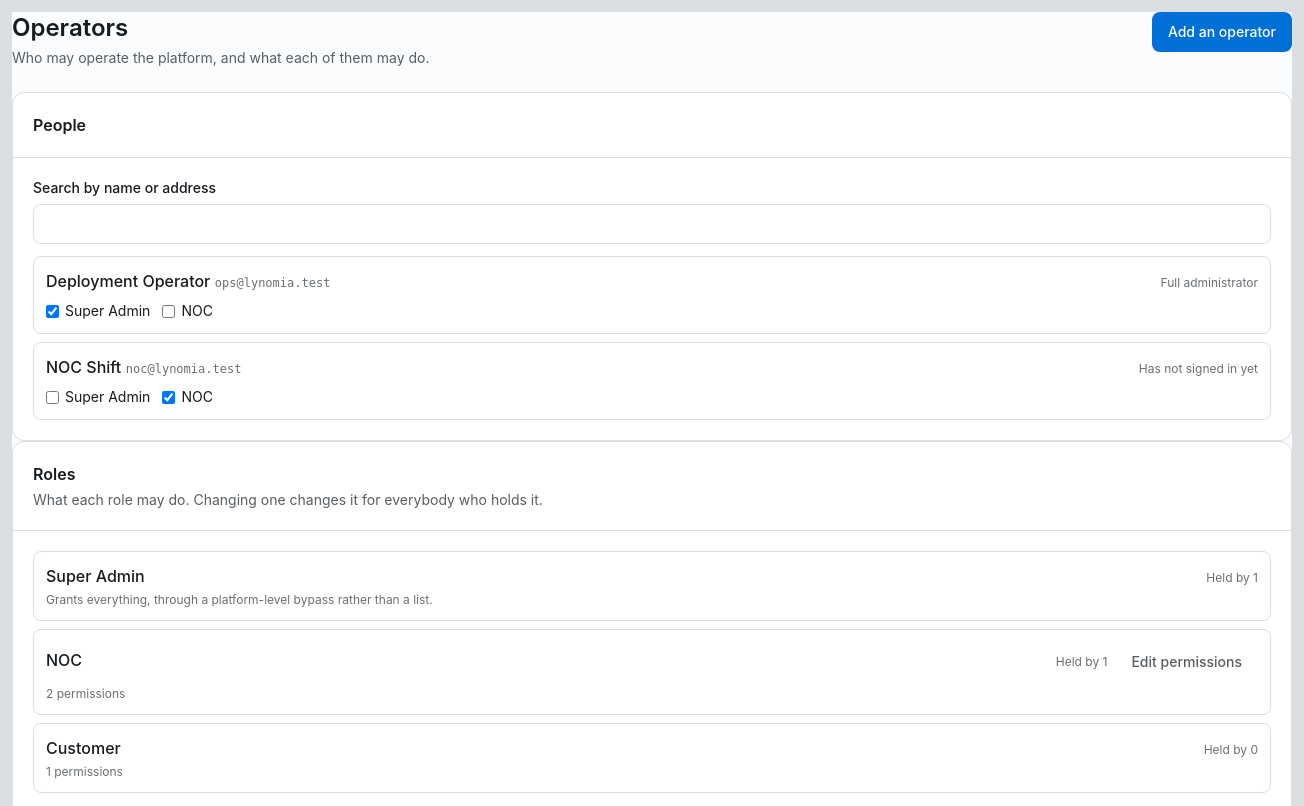
OperatorsPage › shows the platform’s refusal in words rather than swallowing it
Step 1. Click the checkbox labelled "NOC" below "Deployment Operator" → (169, 311), box x1=162 y1=304 x2=175 y2=318
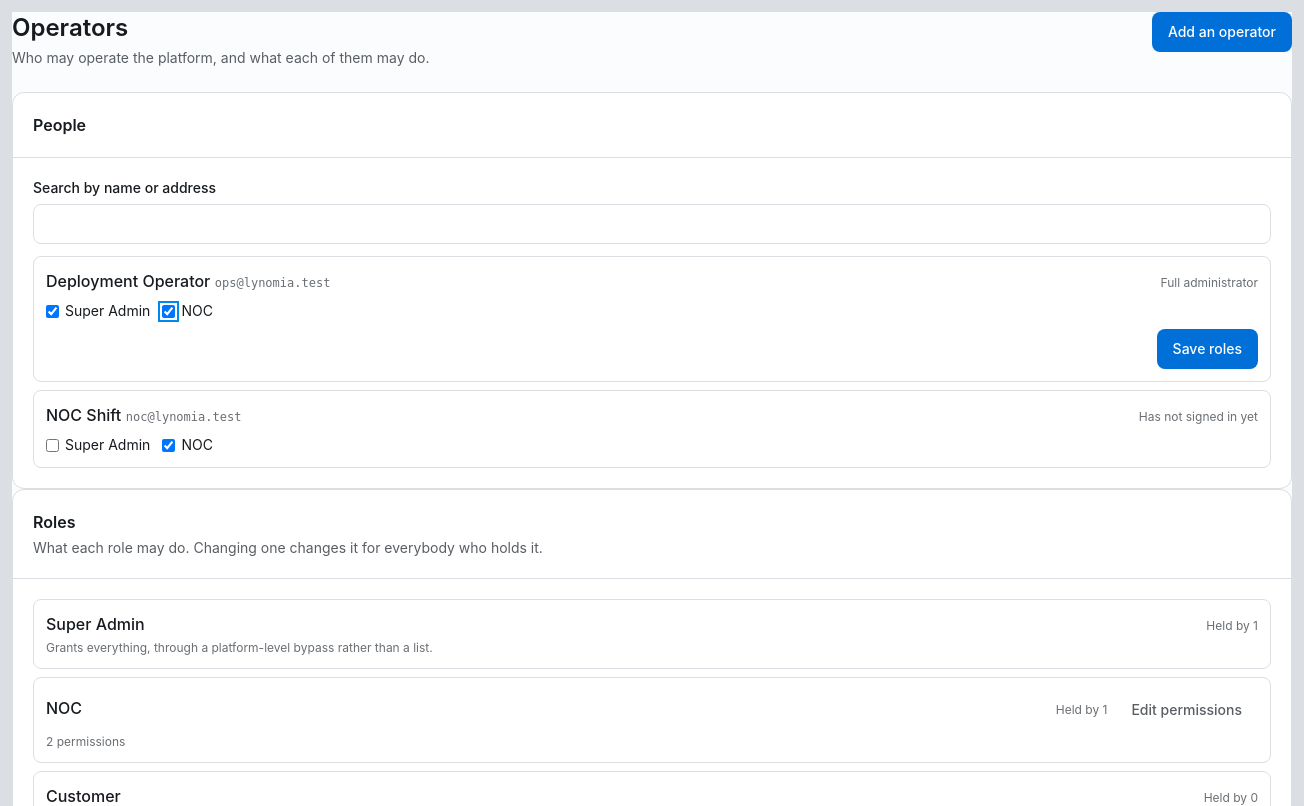
Step 2. Click the button "Save roles" → (1207, 349), box x1=1157 y1=329 x2=1258 y2=369
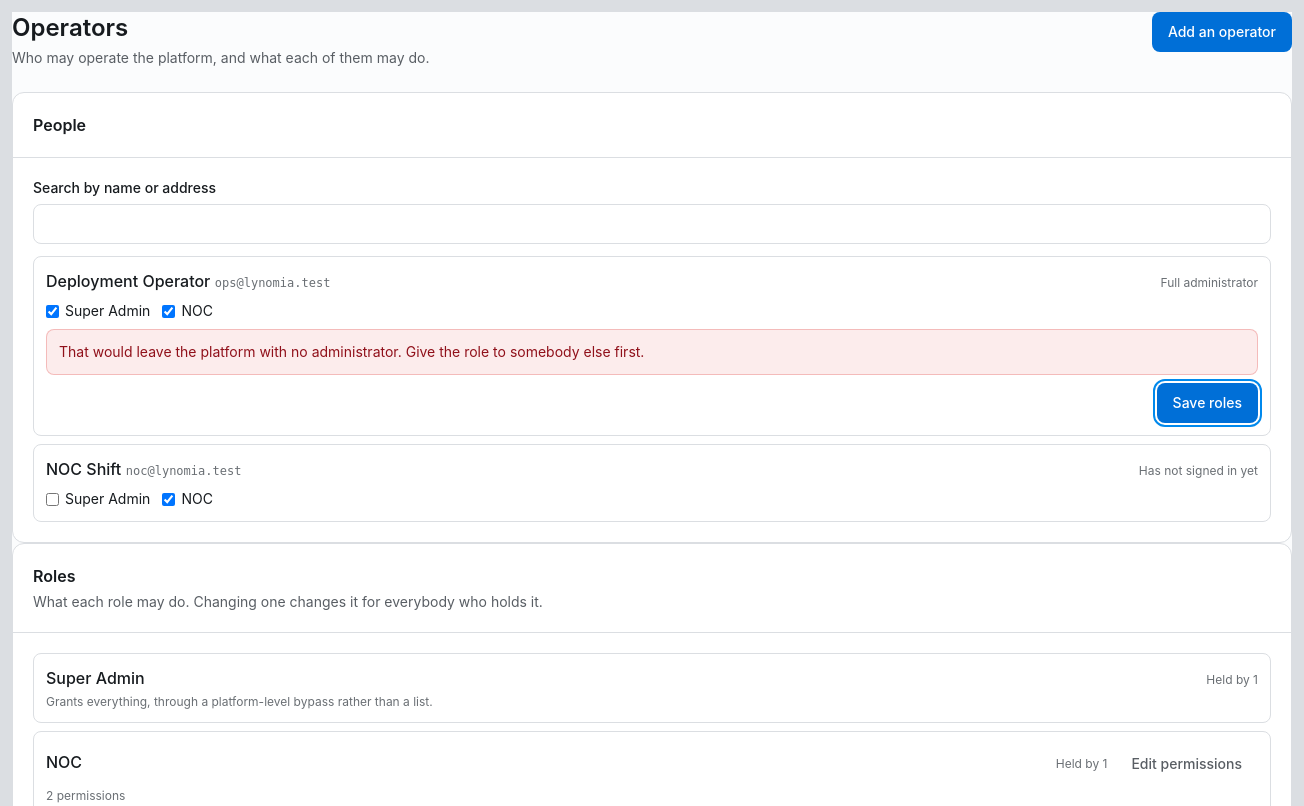
expect the text "no administrator" is shown: met, box x1=59 y1=343 x2=644 y2=360
